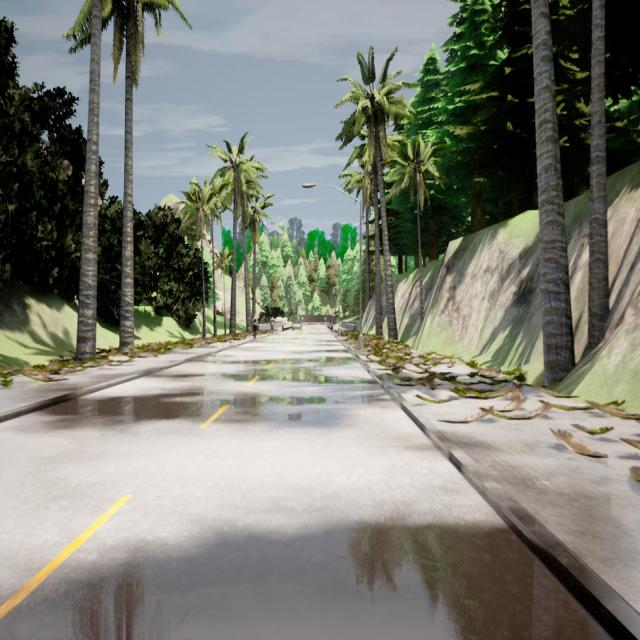Pedestrian: (251, 313, 259, 339), (270, 314, 276, 334)
Traffic_Signs: (324, 316, 327, 321), (302, 317, 304, 320)
Vehicle: (291, 319, 303, 331)
